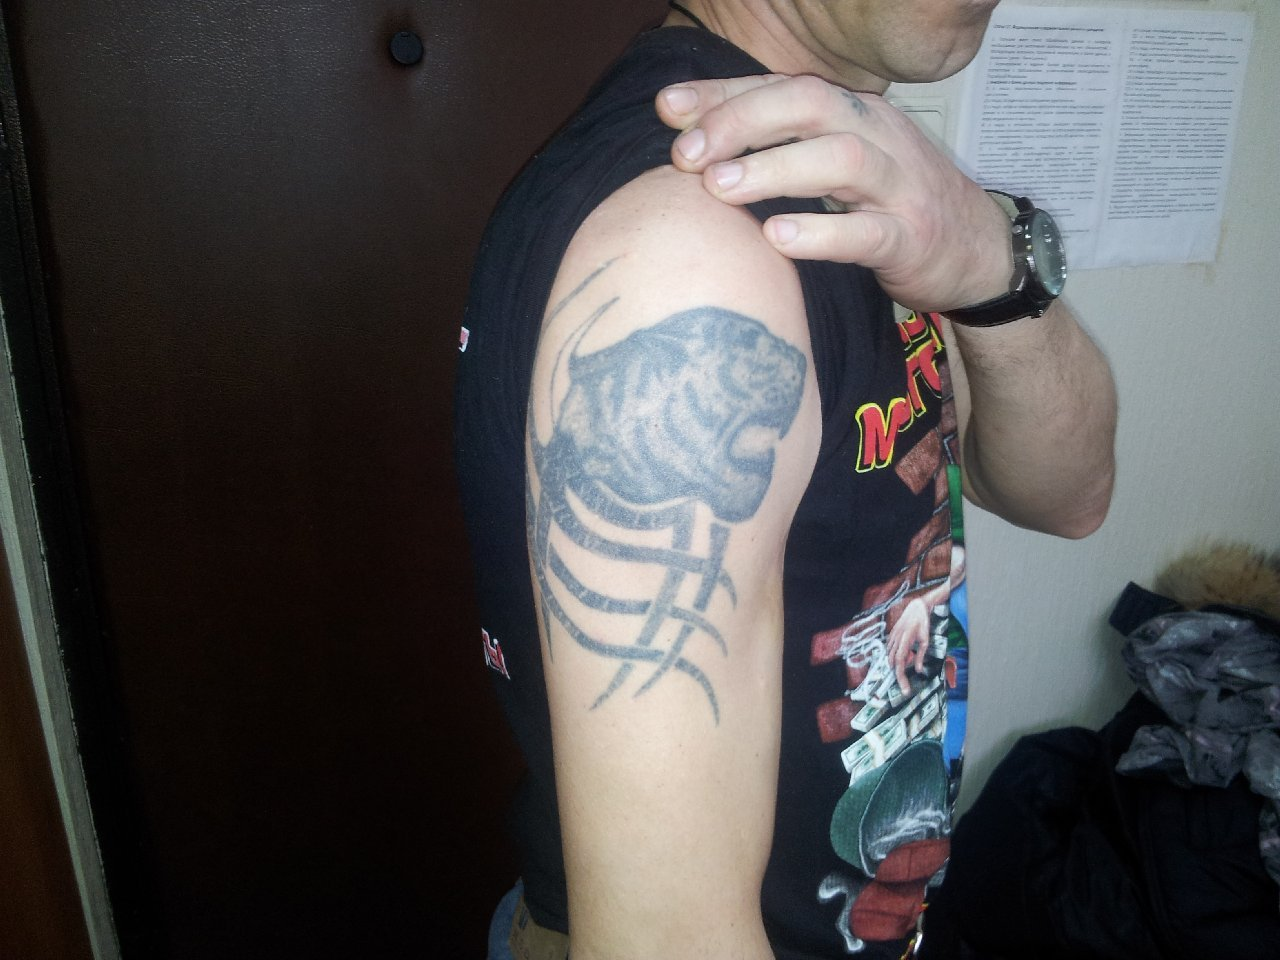tatu5_tigr: (522, 250, 826, 672)
